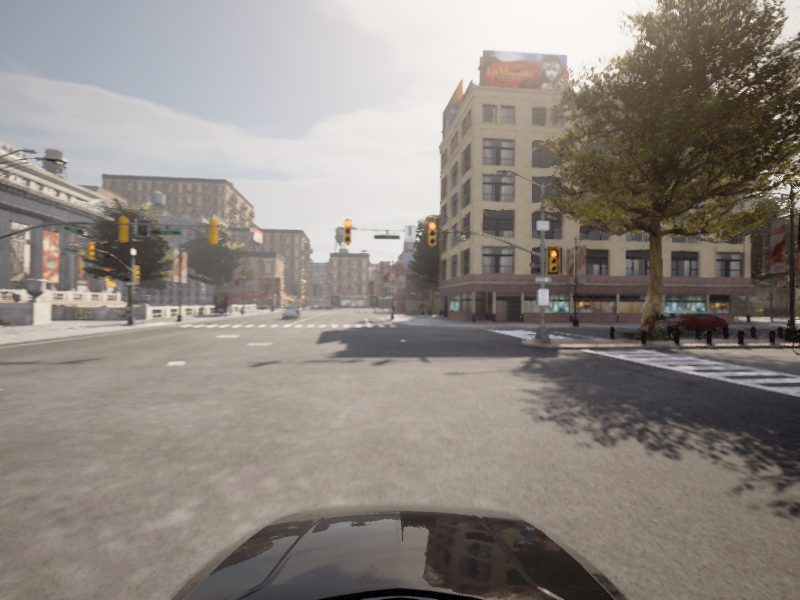vehicle: (651, 312, 733, 334), (784, 314, 799, 355), (280, 306, 301, 319)
